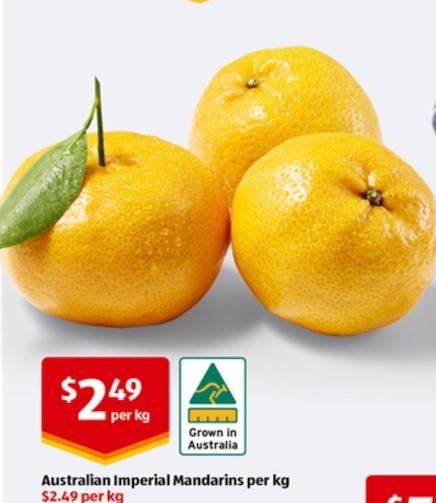description_block: (32, 468, 303, 491)
product_image_block: (0, 35, 436, 345)
unit_price_block: (27, 351, 172, 457), (23, 483, 133, 503)
